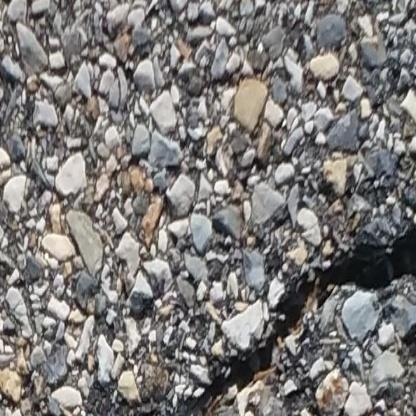Cracks: (120, 231, 416, 416)
